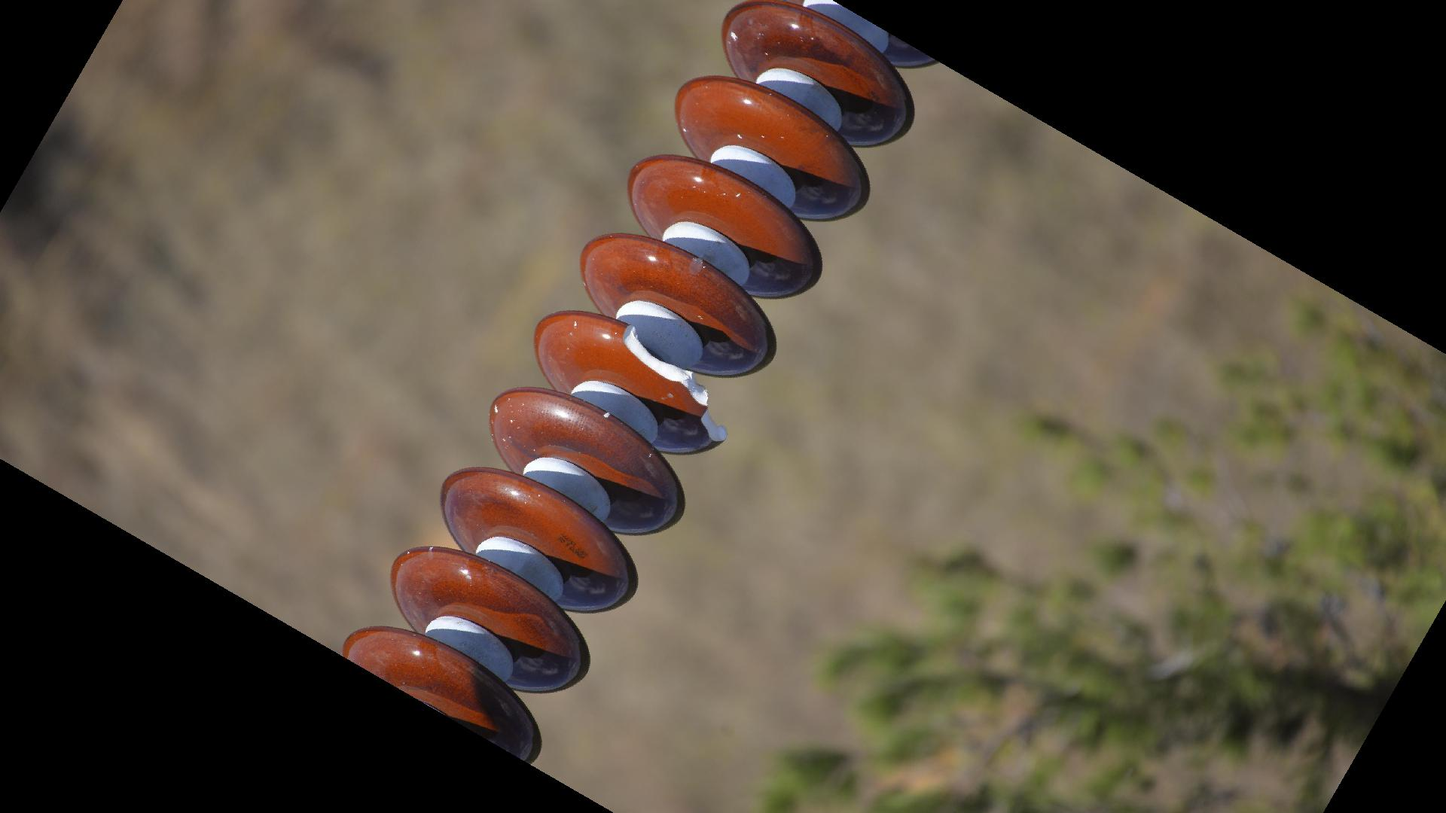insulator: (336, 1, 941, 772)
insulator_breakage: (612, 316, 735, 453)
